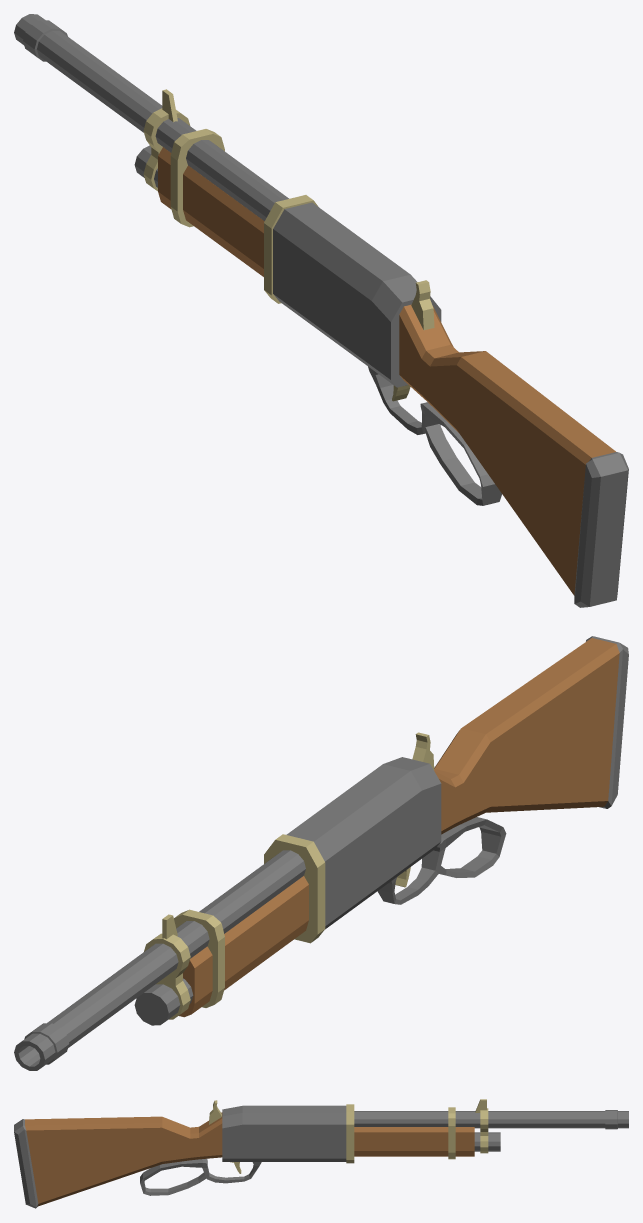
File: Lever-Rifles-Medium.fbx
3 views of the same model, one above another, from view 1: azimuth 30°, elevation 25°; view 2: azimuth 150°, elevation 25°; view 3: azimuth 270°, elevation 25° (orthographic). The views are drawn at different scales.
Visible parts, largest first — view 1: Carabine.002; view 2: Carabine.002; view 3: Carabine.002.
Boxes of the visible parts, x1,y1,x2,y2 form: Carabine.002: [14, 14, 628, 607]; Carabine.002: [14, 636, 628, 1070]; Carabine.002: [14, 1099, 628, 1208].
Bounding box in the file's own units: 65.9 × 235 × 1244.
